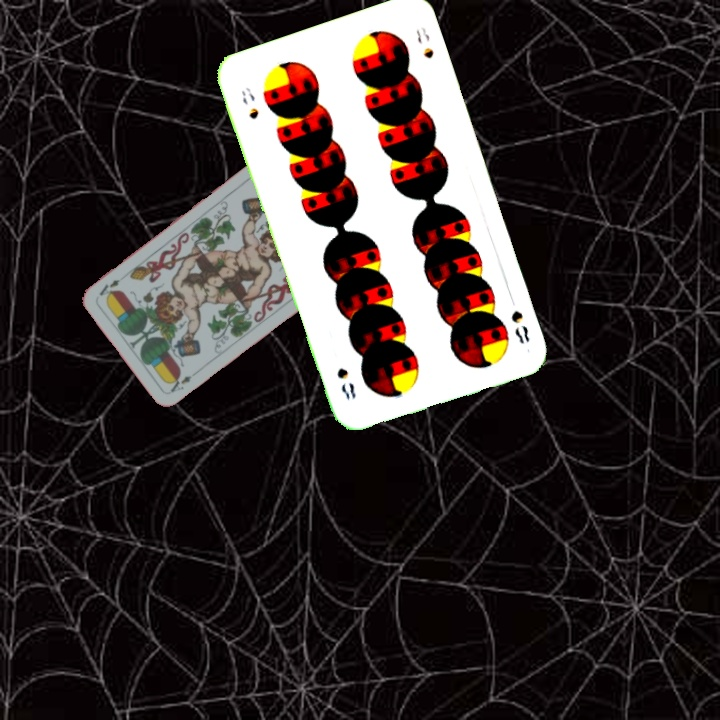EA: (165, 370, 194, 395)
S8: (507, 306, 532, 347), (237, 83, 262, 122)
